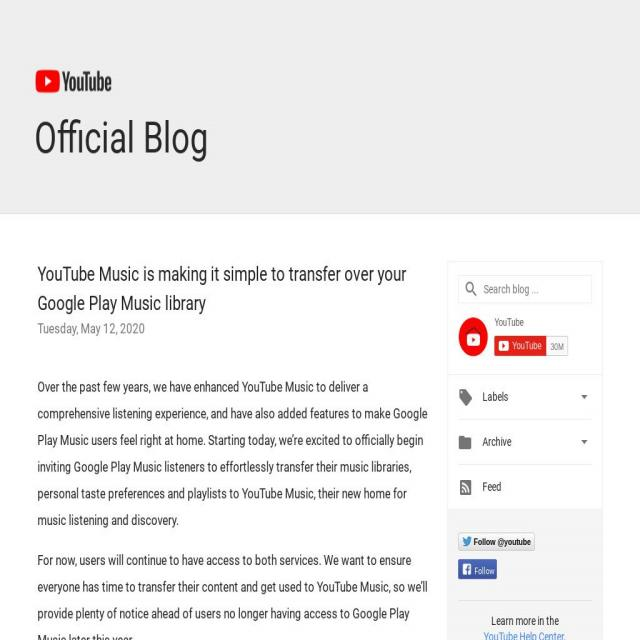button: (452, 377, 600, 415), (453, 465, 597, 504), (453, 424, 599, 460), (35, 62, 112, 101), (458, 532, 536, 550), (458, 318, 488, 356), (494, 336, 548, 356), (458, 557, 496, 580)
field: (458, 275, 592, 303), (546, 336, 568, 356)
